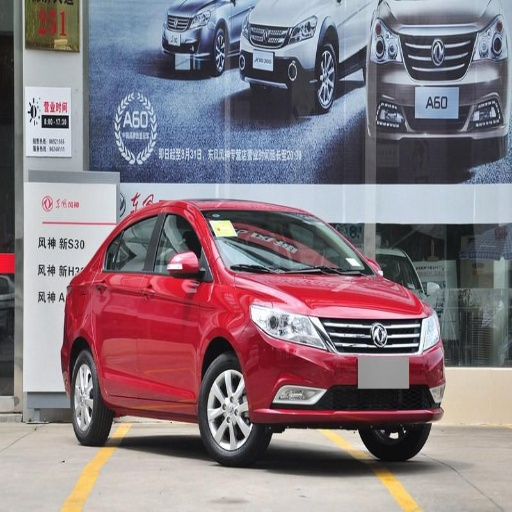front_bumper: (243, 311, 446, 431), (369, 20, 511, 149), (243, 39, 295, 84)
front_right_door: (139, 209, 208, 399)
front_right_light: (250, 297, 329, 349)
trunk: (108, 9, 173, 111)
